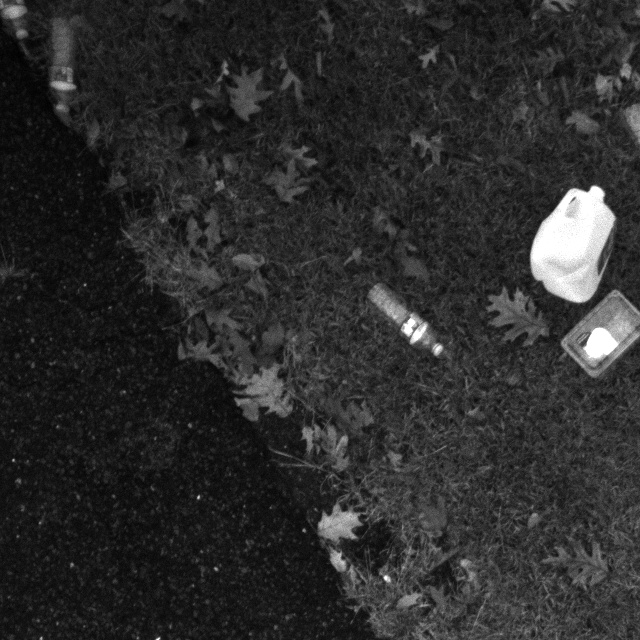bottle: (364, 283, 442, 359), (42, 13, 82, 120)
can: (525, 175, 632, 313)
container: (552, 283, 640, 388)
